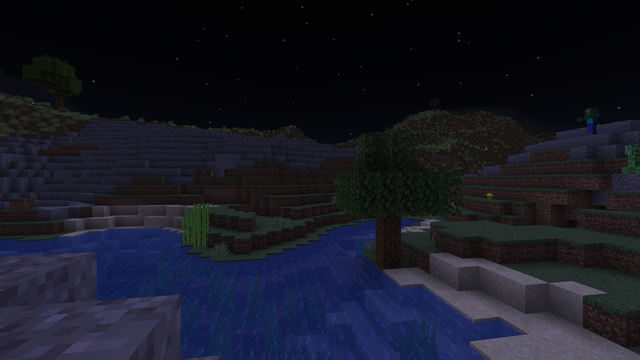creepers: (623, 143, 639, 173)
zombies: (583, 107, 599, 135)
